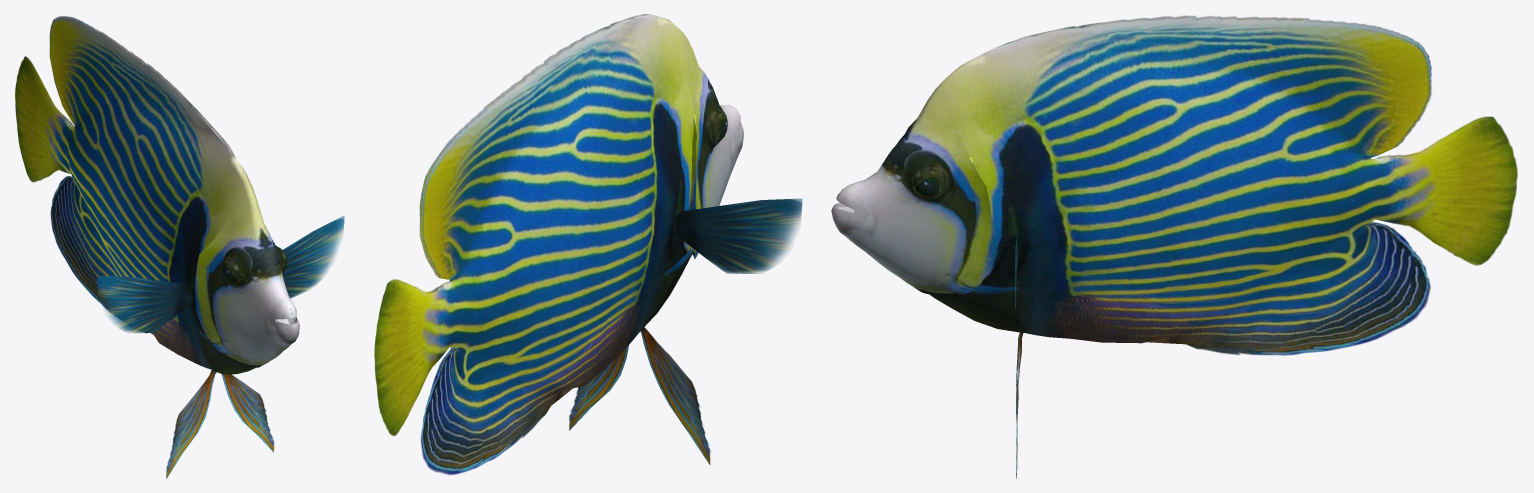
Rendered from emperor_angelfish.glb.
The picture shows the model from 3 angles, left to right: view 1: azimuth 30°, elevation 25°; view 2: azimuth 150°, elevation 25°; view 3: azimuth 270°, elevation 25°; orthographic projection. The views are drawn at different scales.
Parts seen in each view (by area): view 1: DeformationSystem; view 2: DeformationSystem; view 3: DeformationSystem.
Part boxes in pixels (x1=…): DeformationSystem: x1=15, y1=16, x2=344, y2=478; DeformationSystem: x1=374, y1=14, x2=802, y2=474; DeformationSystem: x1=831, y1=15, x2=1517, y2=478.
Size of the model in its own units: 0.1036 by 0.1404 by 0.2029.
Materials: 2 (2 with a texture image).
